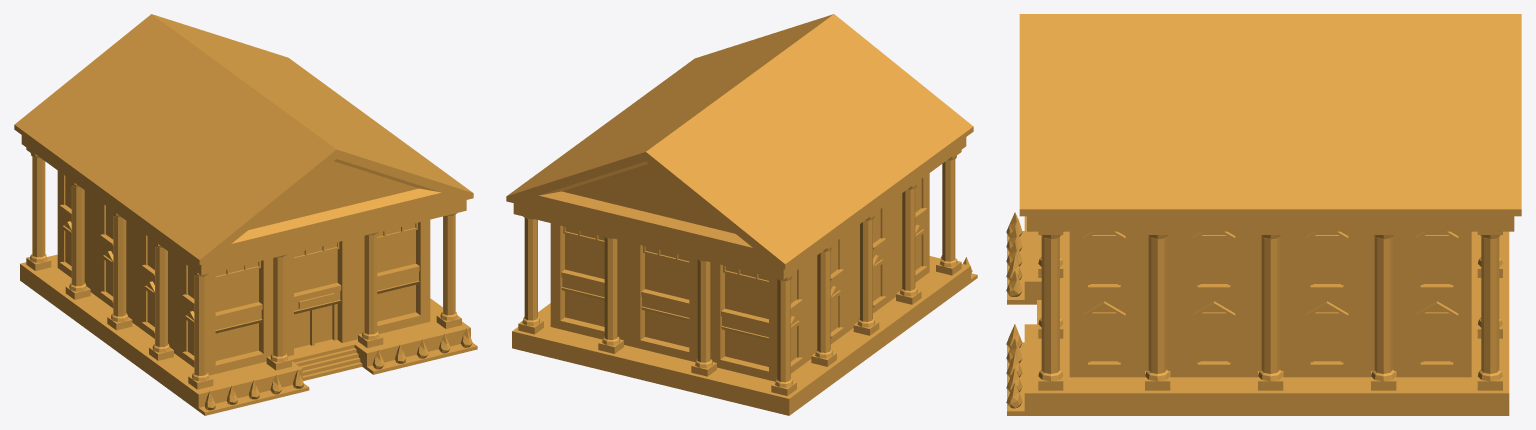
Rendered from building-bank.fbx.
3 renders of one model, left to right at view 1: azimuth 30°, elevation 25°; view 2: azimuth 150°, elevation 25°; view 3: azimuth 270°, elevation 25°, orthographic. The views are drawn at different scales.
Visible parts, largest first — view 1: building-bank; view 2: building-bank; view 3: building-bank.
Part boxes in pixels (bbox=[...]): building-bank: bbox=[14, 14, 477, 415]; building-bank: bbox=[506, 14, 977, 415]; building-bank: bbox=[1006, 14, 1521, 415].
Size of the model in its own units: 17.1 by 13.7 by 20.53.
